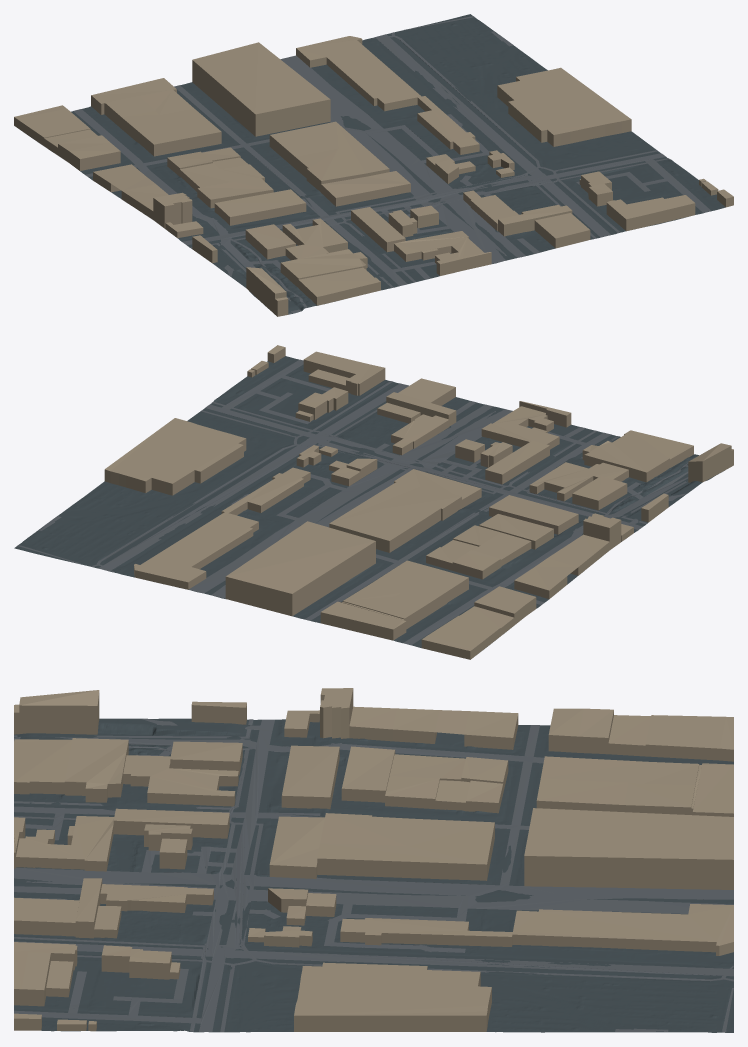
The model's file is epsg26910-1442-10881.lod0.glb.
3 renders of one model, top to bottom at view 1: azimuth 30°, elevation 25°; view 2: azimuth 150°, elevation 25°; view 3: azimuth 270°, elevation 25°, orthographic. The views are drawn at different scales.
Visible parts, largest first — view 1: epsg26910-1442-10881-lod0; view 2: epsg26910-1442-10881-lod0; view 3: epsg26910-1442-10881-lod0.
Part boxes in pixels (x1=…): epsg26910-1442-10881-lod0: x1=14, y1=14, x2=733, y2=316; epsg26910-1442-10881-lod0: x1=14, y1=345, x2=733, y2=659; epsg26910-1442-10881-lod0: x1=14, y1=688, x2=733, y2=1032.
Bounding box in the file's own units: 384 × 24.26 × 384.
